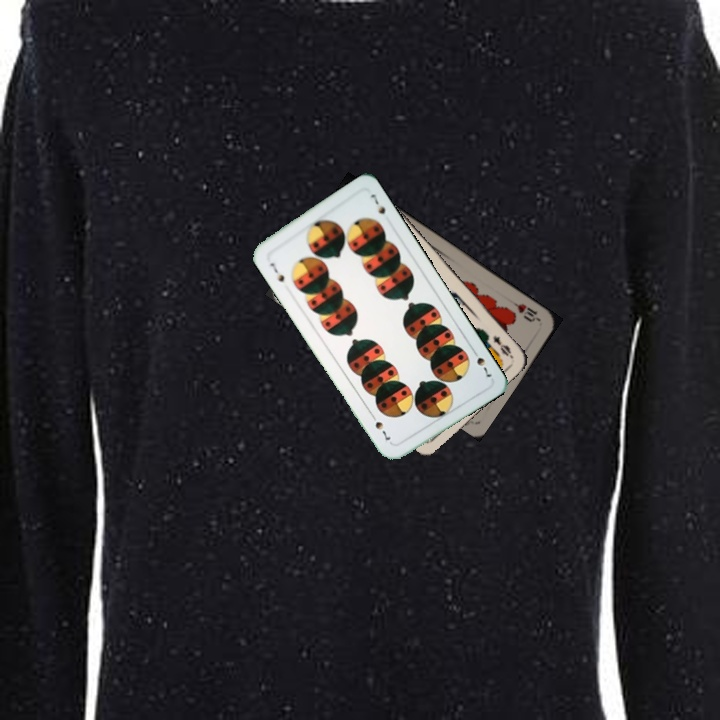EO: (489, 331, 516, 361)
H10: (506, 296, 543, 325)
S7: (468, 345, 495, 380), (265, 259, 287, 287)
